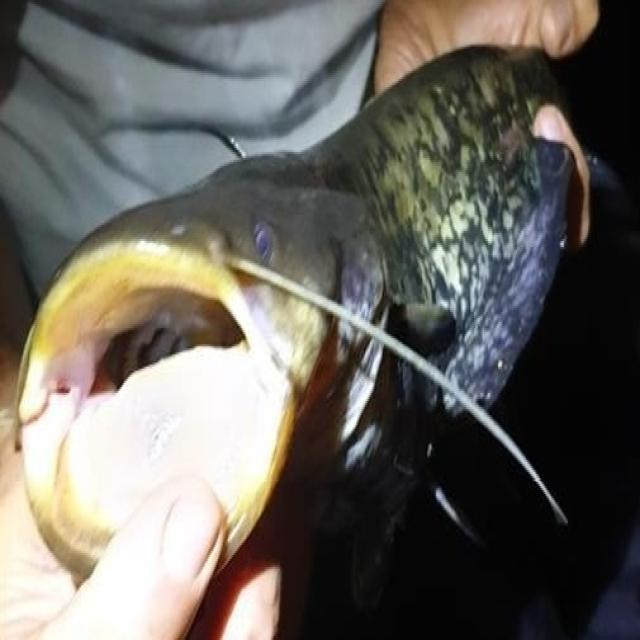Catfish: (6, 22, 614, 610)
